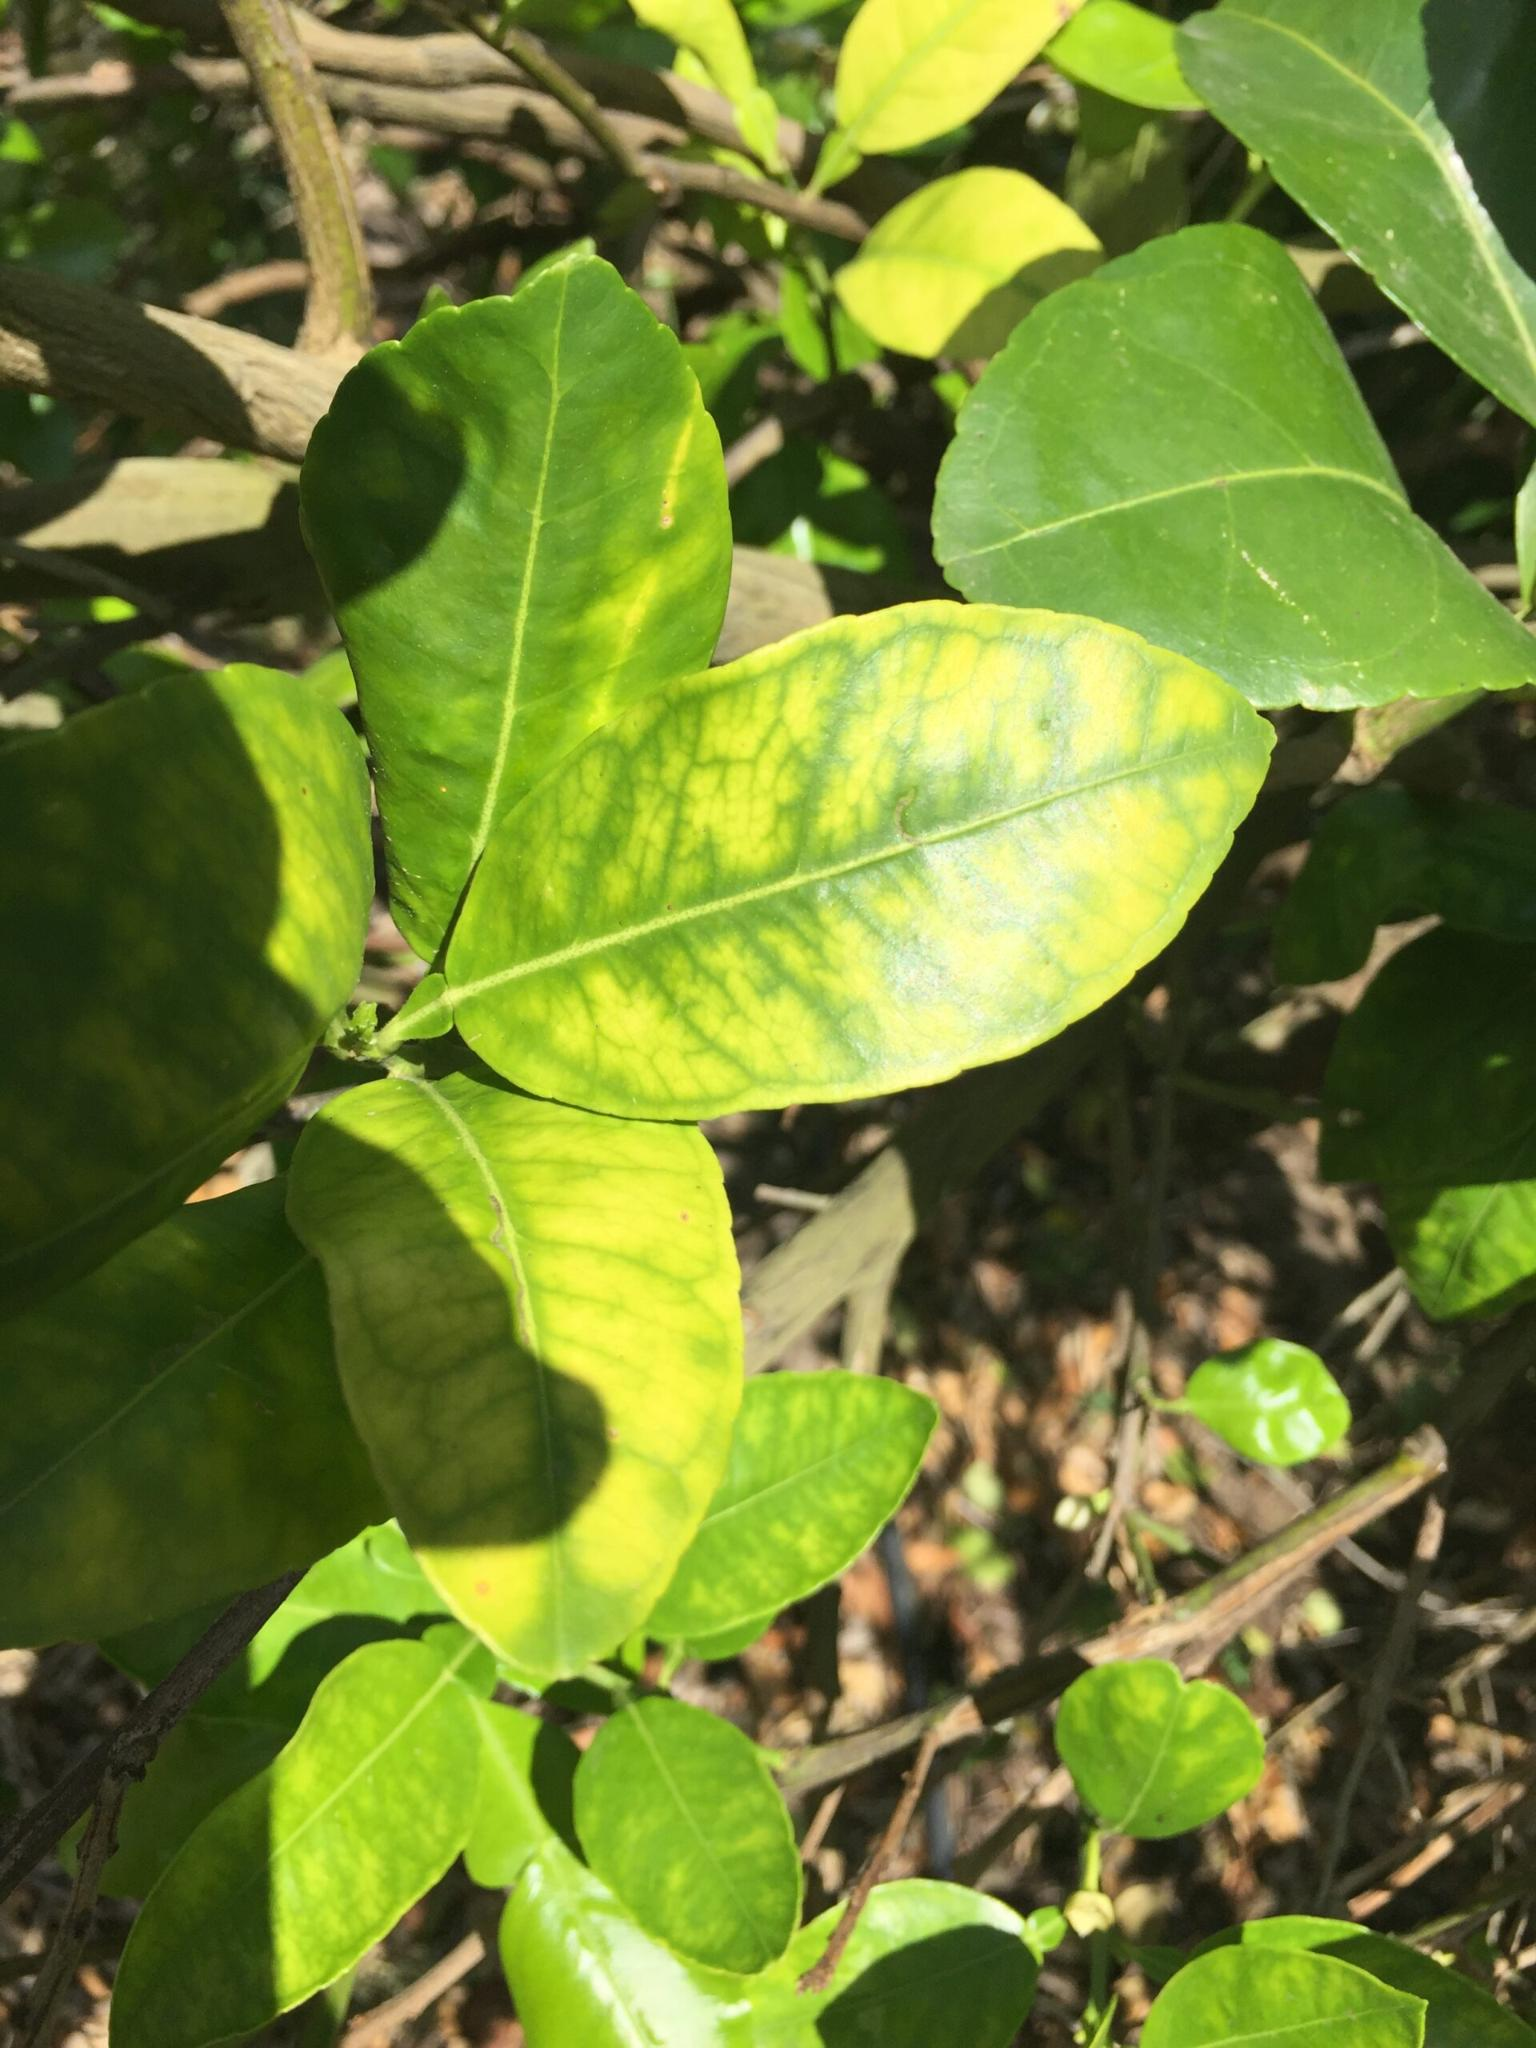Citrus Greening: (369, 647, 1297, 1055), (292, 1072, 724, 1643), (318, 281, 700, 893), (158, 1625, 460, 2004), (650, 1384, 929, 1606)
